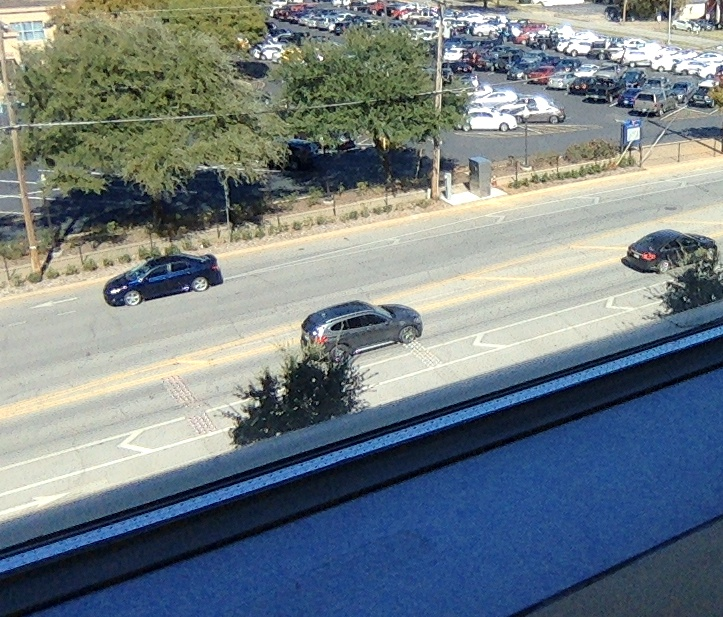car: (300, 300, 423, 363)
